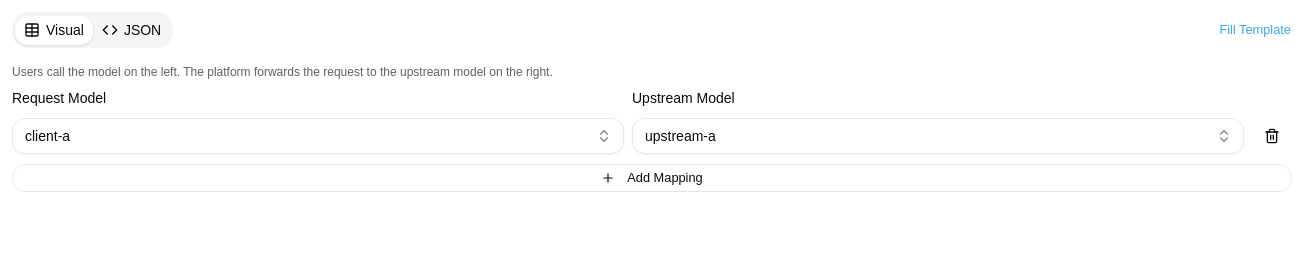
Test: 拉不到上游模型时如实说没获取到，不拿站点模型目录凑数
Click the dropdown showing "upstream-a" at (938, 136), box [632,118,1244,154]
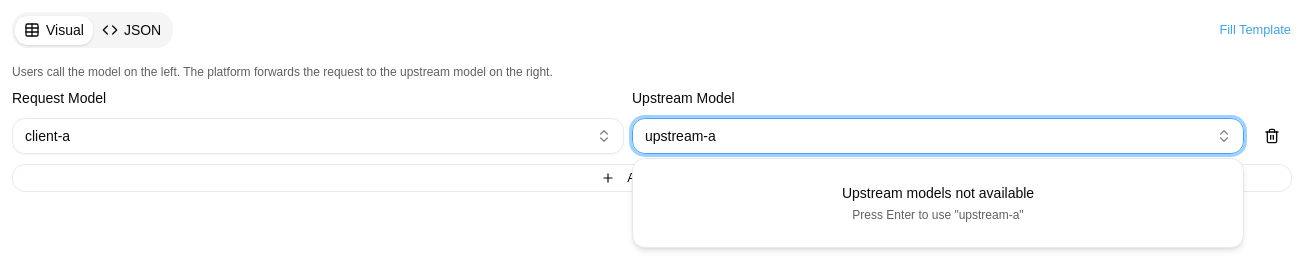
Result: the text "Upstream models not available" is shown at [842,185,1034,201]
